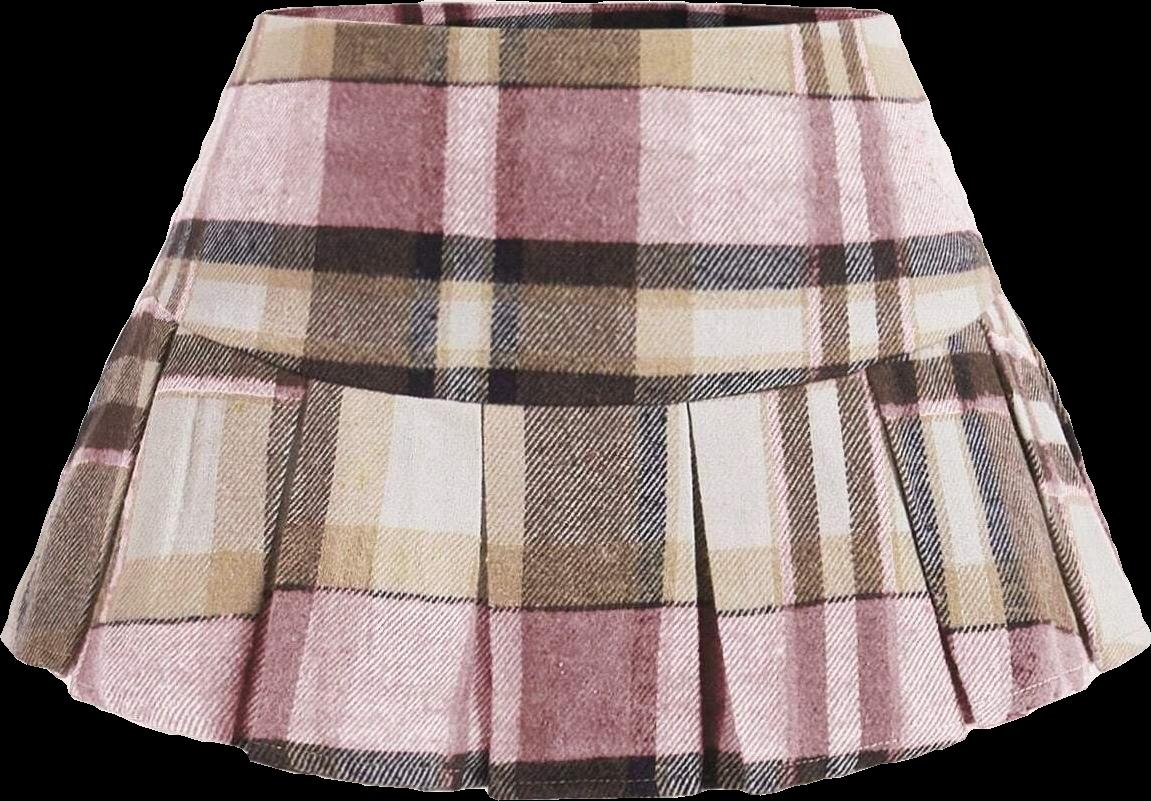Hemline: (0, 633, 1150, 800)
Waistline: (143, 279, 1004, 413), (258, 8, 888, 37)
